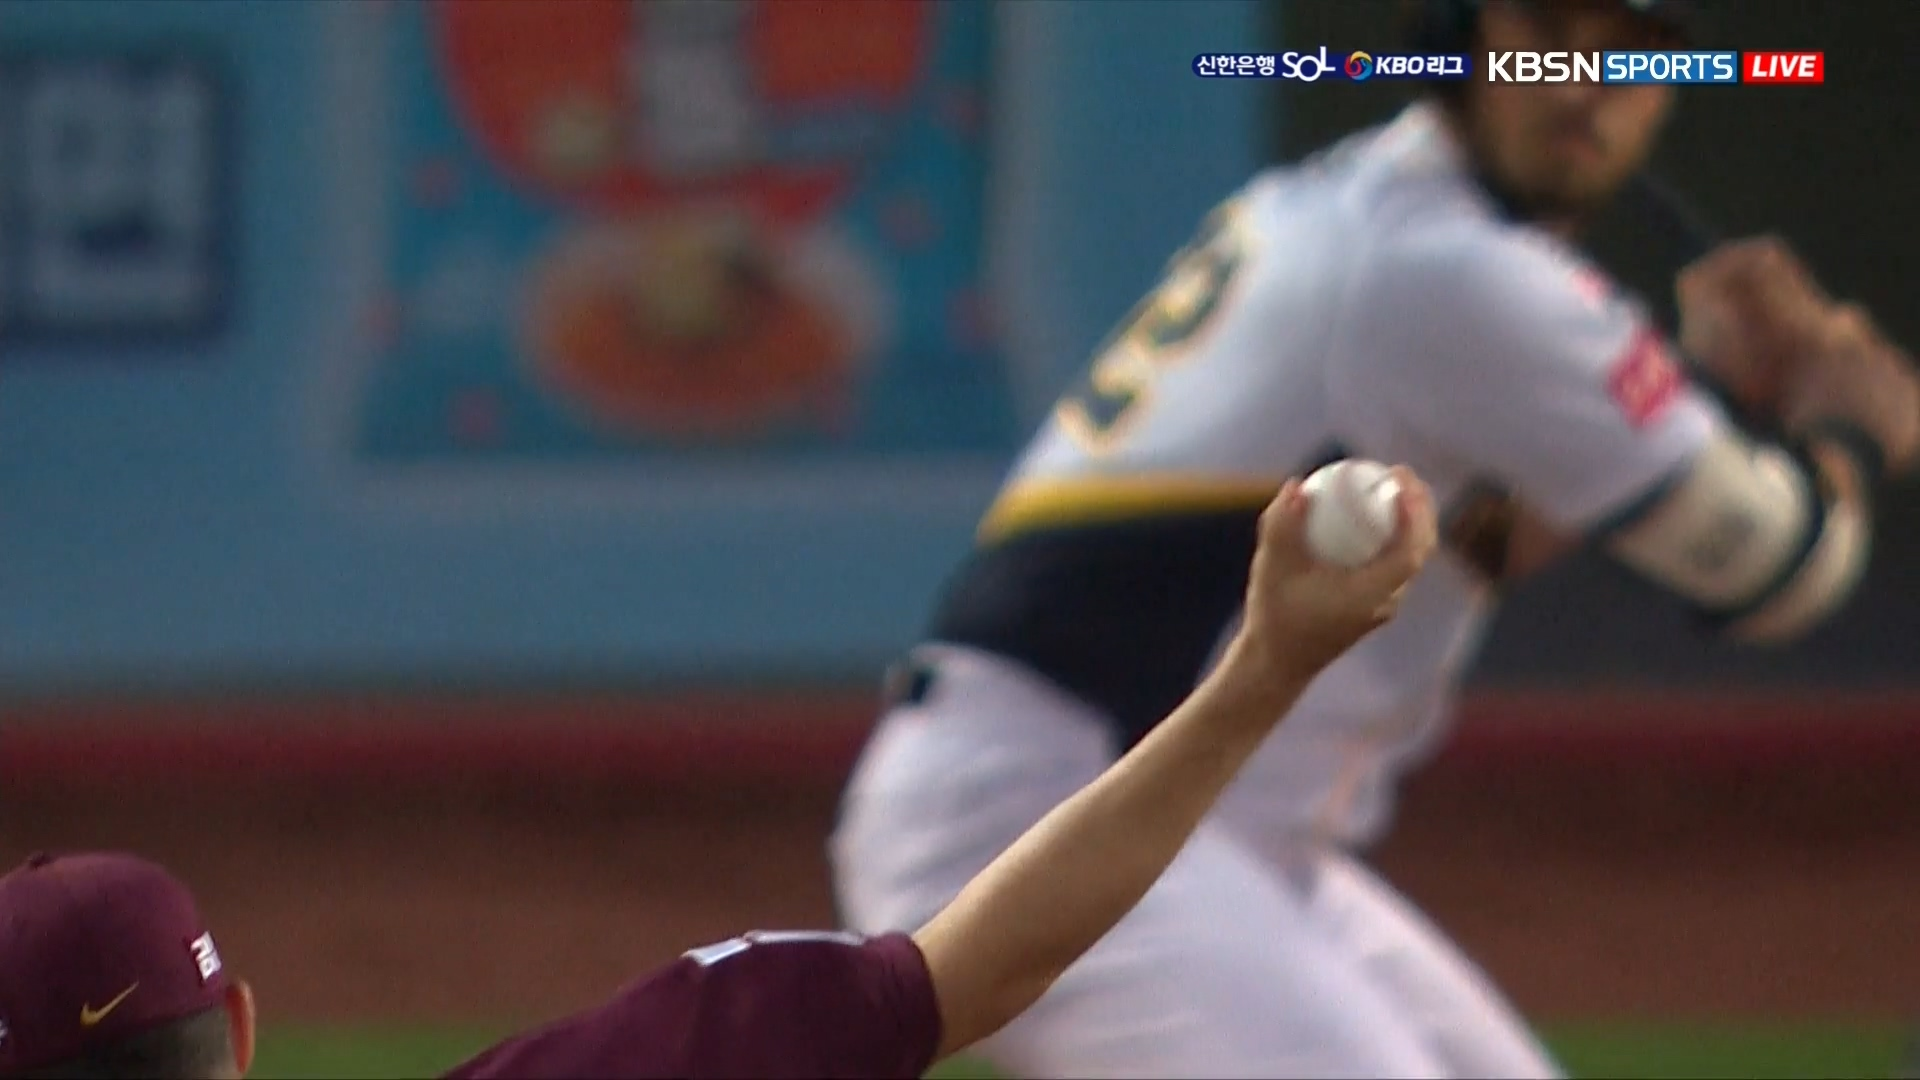zoomin_hand: (948, 430, 1444, 1047)
